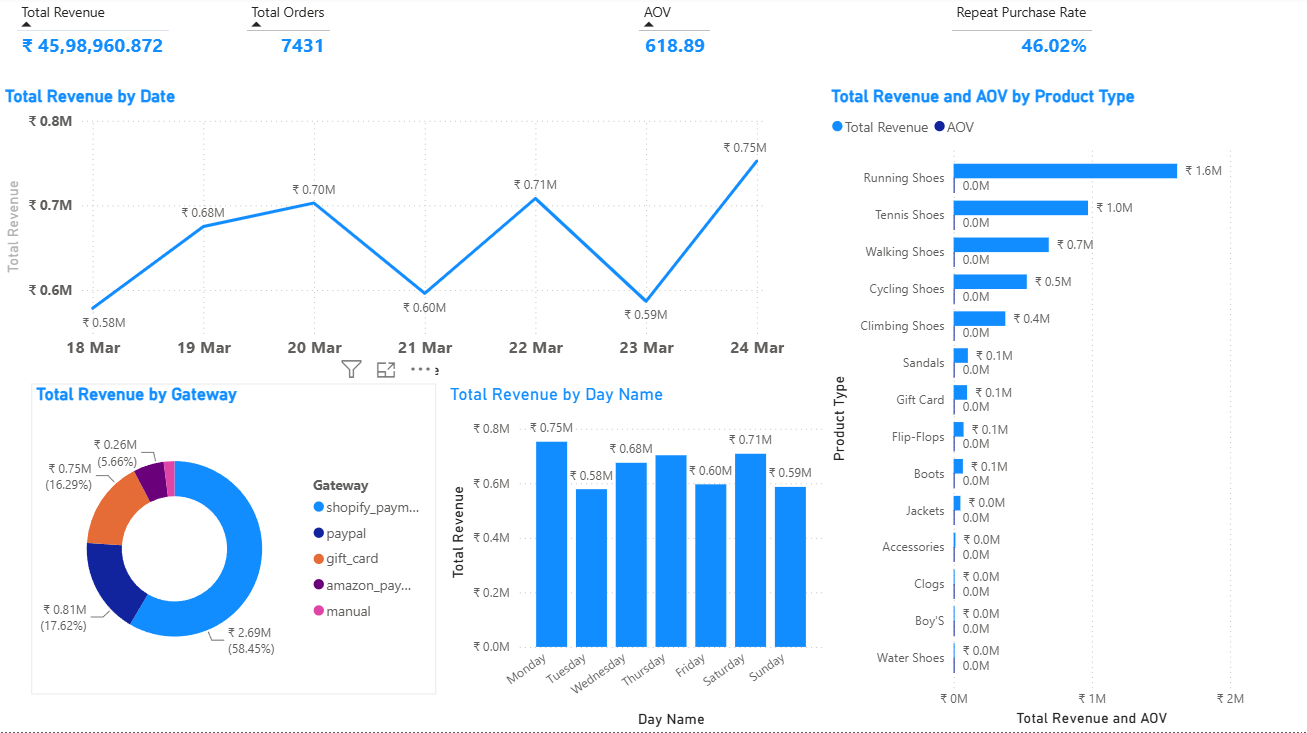

The page's visual inventory and layout, read from the dashboard file:
{"tool":"powerbi","page":{"name":"Executive Overview","canvas":[1280,720],"ordinal":0},"visuals":[{"type":"tableEx","fields":{"Values":["shopify_sales.Total Revenue"]},"box":[9.6,0,225,87.8],"z":0},{"type":"tableEx","fields":{"Values":["shopify_sales.Total Orders"]},"box":[234.6,0,384.2,87.8],"z":1000},{"type":"tableEx","fields":{"Values":["shopify_sales.AOV"]},"box":[618.9,0,306,87.8],"z":2000},{"type":"tableEx","fields":{"Values":["shopify_sales.Repeat Purchase Rate"]},"box":[924.9,0,355.4,87.8],"z":3000},{"type":"lineChart","fields":{"Category":["Dim_Date.Date"],"Y":["shopify_sales.Total Revenue"]},"box":[0,87.8,772.6,290.9],"z":4000},{"type":"clusteredBarChart","fields":{"Category":["shopify_sales.Product Type"],"Y":["shopify_sales.Total Revenue","shopify_sales.AOV"]},"box":[808.6,88.6,414.3,631.4],"z":5000},{"type":"donutChart","fields":{"Category":["shopify_sales.Gateway"],"Y":["shopify_sales.Total Revenue"]},"box":[30.2,378.7,396.6,304.6],"z":6000},{"type":"clusteredColumnChart","fields":{"Y":["shopify_sales.Total Revenue"],"Category":["Dim_Date.Day Name"]},"box":[435,378.7,374.6,341.7],"z":7000}]}

Visuals, with their boxes in screenshot pixels (x1, y1, x2, y2), scaled from the page's 1280x720 canvas onto the 1307x733 screenshot:
tableEx - shopify_sales.Total Revenue: <region>10, 0, 240, 89</region>
tableEx - shopify_sales.Total Orders: <region>240, 0, 632, 89</region>
tableEx - shopify_sales.AOV: <region>632, 0, 944, 89</region>
tableEx - shopify_sales.Repeat Purchase Rate: <region>944, 0, 1306, 89</region>
lineChart - Dim_Date.Date x shopify_sales.Total Revenue: <region>0, 89, 789, 386</region>
clusteredBarChart - shopify_sales.Product Type x shopify_sales.Total Revenue: <region>826, 90, 1249, 732</region>
donutChart - shopify_sales.Gateway x shopify_sales.Total Revenue: <region>31, 386, 436, 696</region>
clusteredColumnChart - shopify_sales.Total Revenue x Dim_Date.Day Name: <region>444, 386, 827, 732</region>
